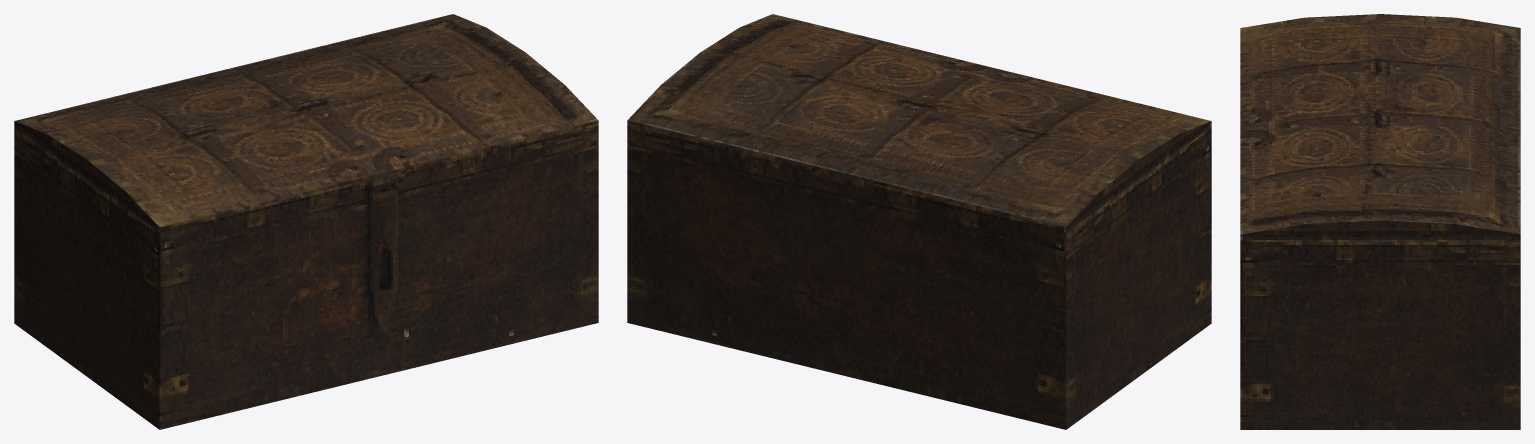
Rendered from wooden_crate_3.glb.
3 views of the same model, side by side, from view 1: azimuth 30°, elevation 25°; view 2: azimuth 150°, elevation 25°; view 3: azimuth 270°, elevation 25° (orthographic). The views are drawn at different scales.
Parts seen in each view (by area): view 1: wooden_crate_3; view 2: wooden_crate_3; view 3: wooden_crate_3.
Boxes of the visible parts, bbox=[...] form: wooden_crate_3: bbox=[14, 14, 598, 429]; wooden_crate_3: bbox=[627, 14, 1211, 429]; wooden_crate_3: bbox=[1240, 14, 1520, 429].
Bounding box in the file's own units: 0.68 × 0.3216 × 0.39.
1 material, 1 textured.
